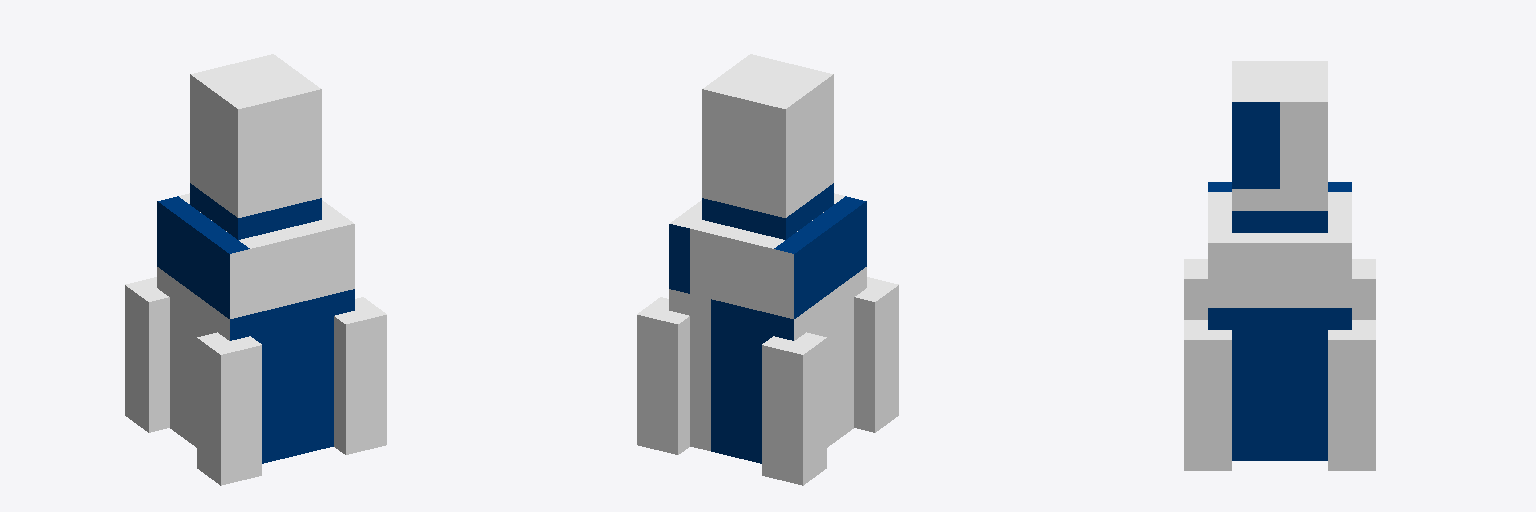
3 views of the same model, side by side, from view 1: azimuth 30°, elevation 25°; view 2: azimuth 150°, elevation 25°; view 3: azimuth 270°, elevation 25° (orthographic).
Parts seen in each view (by area): view 1: group_8, Component_62, group_7; view 2: group_8, Component_62, group_7; view 3: group_8, Component_62, group_7.
Boxes of the visible parts, x1,y1,x2,y2 form: group_8: [157, 193, 354, 463]; Component_62: [125, 277, 386, 485]; group_7: [190, 54, 321, 239]; group_8: [669, 193, 866, 463]; Component_62: [637, 277, 898, 485]; group_7: [702, 54, 833, 239]; group_8: [1208, 182, 1351, 460]; Component_62: [1184, 259, 1375, 470]; group_7: [1232, 61, 1327, 232].
Size of the model in its own units: 50.39 by 101 by 50.39.
1 materials, 1 textured.